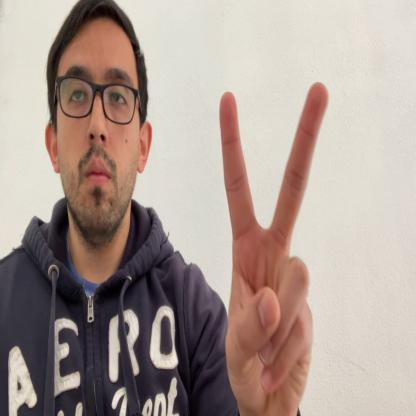V: (218, 81, 331, 415)
